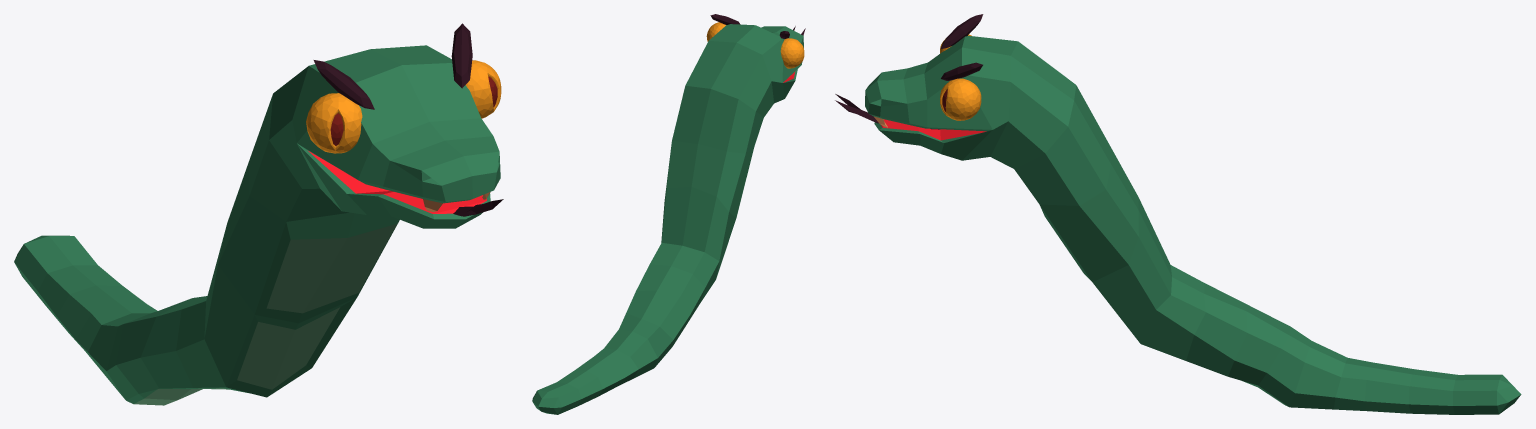
The model's file is Snake_Angry_000011.obj.
3 views of the same model, side by side, from view 1: azimuth 30°, elevation 25°; view 2: azimuth 150°, elevation 25°; view 3: azimuth 270°, elevation 25° (orthographic). The views are drawn at different scales.
Visible parts, largest first — view 1: Snake_Cylinder; view 2: Snake_Cylinder; view 3: Snake_Cylinder.
Boxes of the visible parts, bbox=[...] form: Snake_Cylinder: bbox=[14, 23, 503, 405]; Snake_Cylinder: bbox=[532, 14, 805, 414]; Snake_Cylinder: bbox=[835, 14, 1521, 414].
Bounding box in the file's own units: 1.05 × 2.8 × 4.77.
